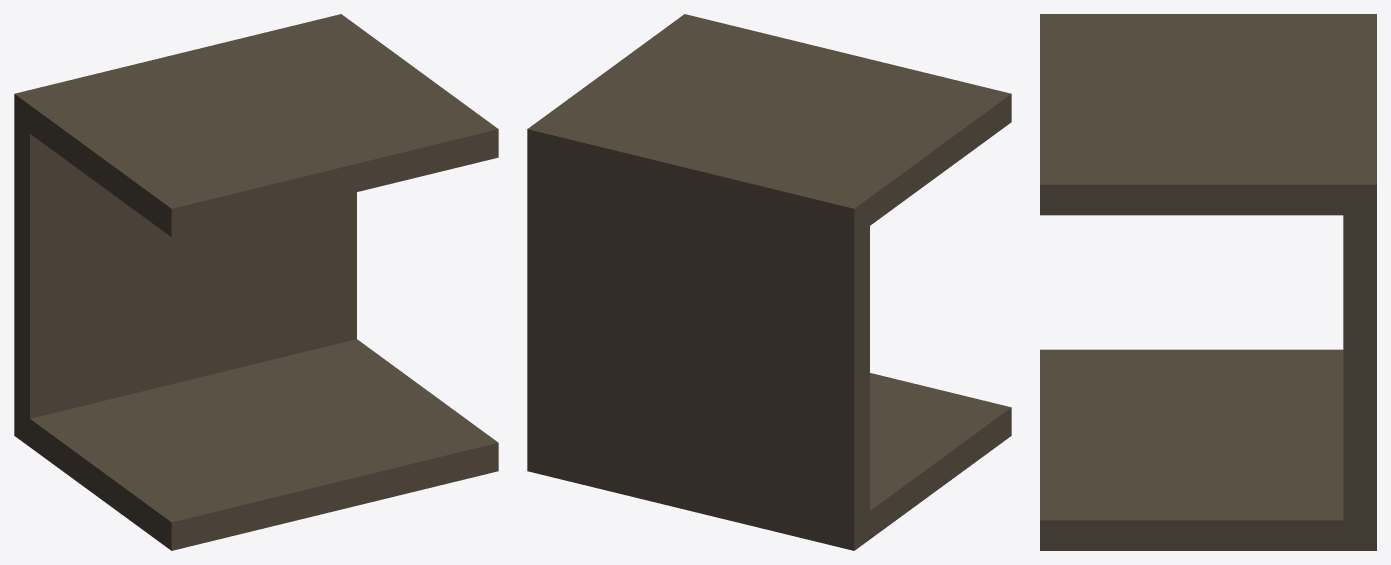
The model's file is SM_Props_Interior_House_Room_Shelf_02.fbx.
3 views of the same model, side by side, from view 1: azimuth 30°, elevation 25°; view 2: azimuth 150°, elevation 25°; view 3: azimuth 270°, elevation 25° (orthographic). The views are drawn at different scales.
Parts seen in each view (by area): view 1: SM_Props_Interior_House_Room_Shelf_02; view 2: SM_Props_Interior_House_Room_Shelf_02; view 3: SM_Props_Interior_House_Room_Shelf_02.
Boxes of the visible parts, bbox=[...] form: SM_Props_Interior_House_Room_Shelf_02: bbox=[14, 14, 498, 550]; SM_Props_Interior_House_Room_Shelf_02: bbox=[527, 14, 1011, 550]; SM_Props_Interior_House_Room_Shelf_02: bbox=[1040, 14, 1376, 550].
Bounding box in the file's own units: 30 × 30 × 25.
